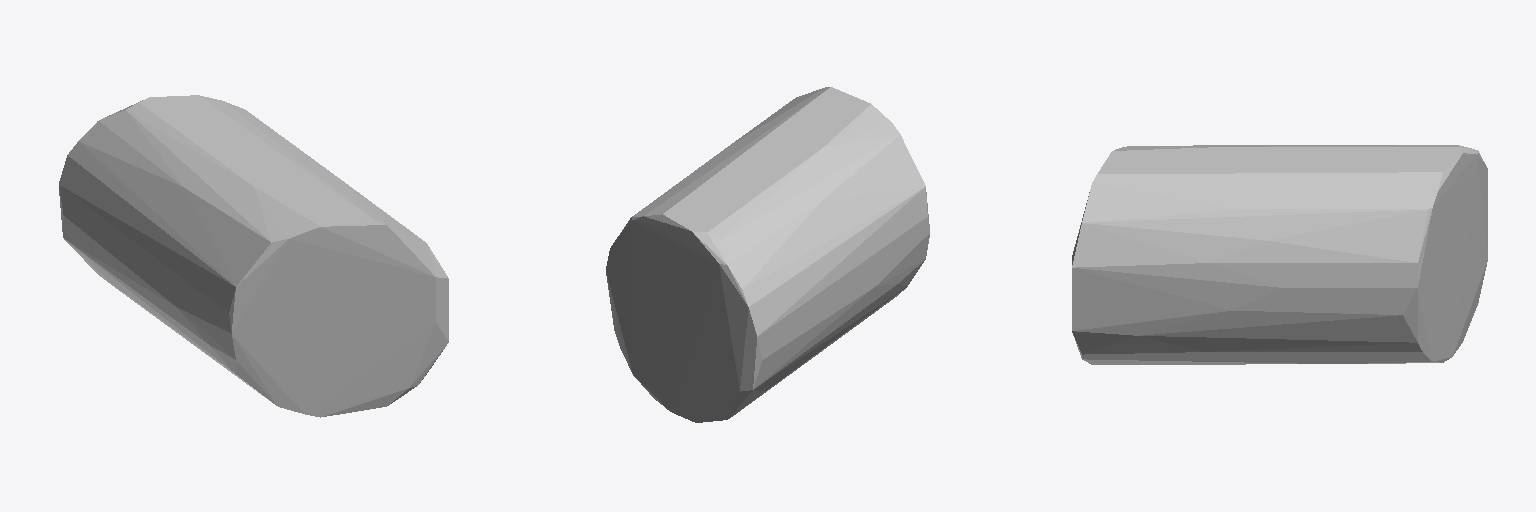
File: cylinder_parallogram_decimated.obj
3 views of the same model, side by side, from view 1: azimuth 30°, elevation 25°; view 2: azimuth 150°, elevation 25°; view 3: azimuth 270°, elevation 25° (orthographic).
Parts seen in each view (by area): view 1: convex_0; view 2: convex_0; view 3: convex_0.
Boxes of the visible parts, x1=… form: convex_0: x1=59, y1=95, x2=448, y2=417; convex_0: x1=606, y1=87, x2=929, y2=422; convex_0: x1=1072, y1=145, x2=1487, y2=364.
Size of the model in its own units: 26.07 by 25.46 by 50.31.